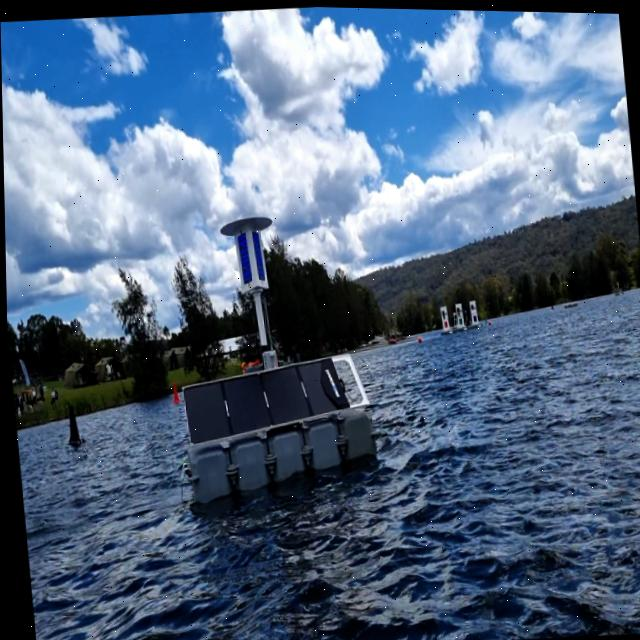led: (249, 225, 264, 281), (235, 232, 251, 283)
